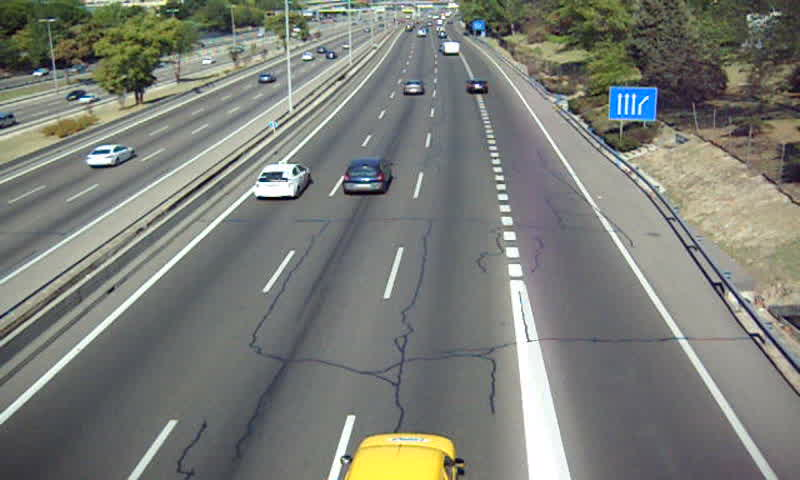car: (255, 164, 311, 197), (342, 160, 392, 195), (402, 78, 425, 95), (466, 80, 489, 94)
van: (443, 42, 462, 54)
